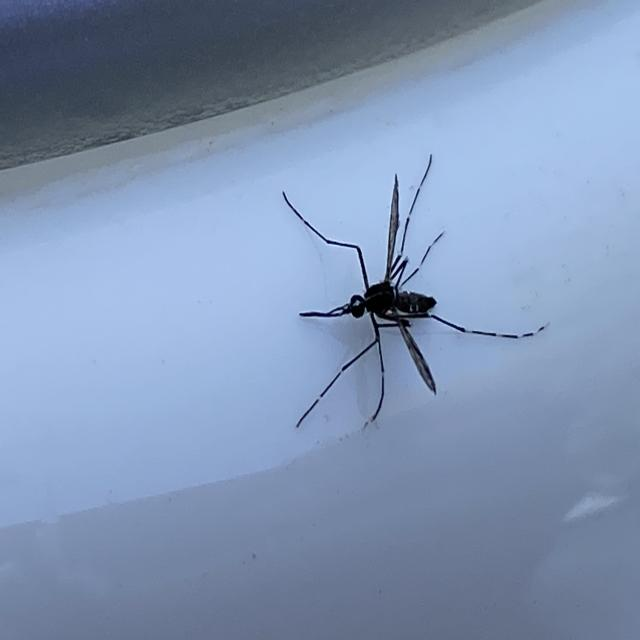albopictus: (276, 145, 538, 435)
